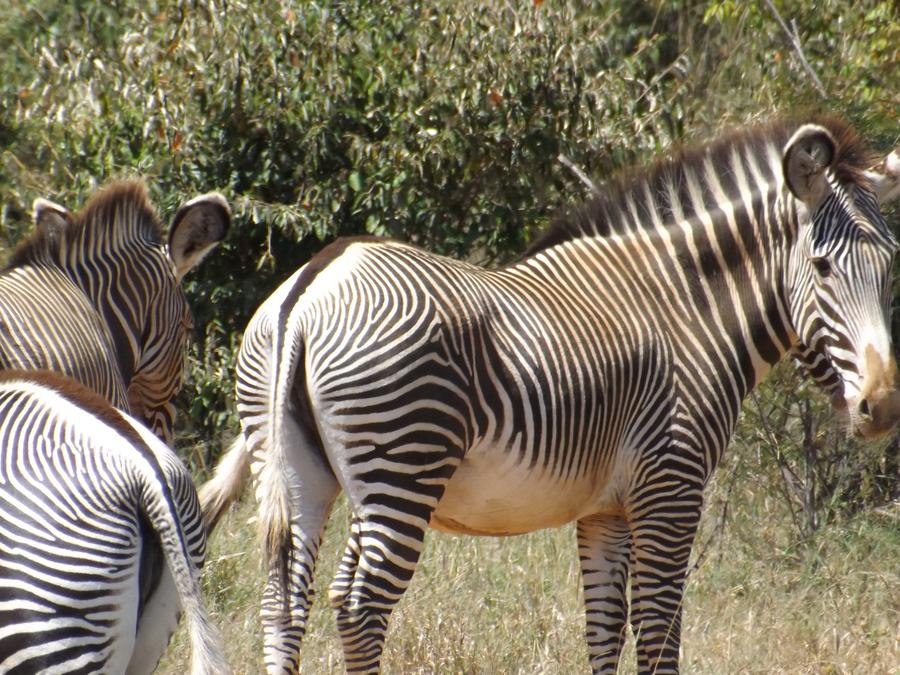zebra_grevys: (296, 215, 710, 519)
